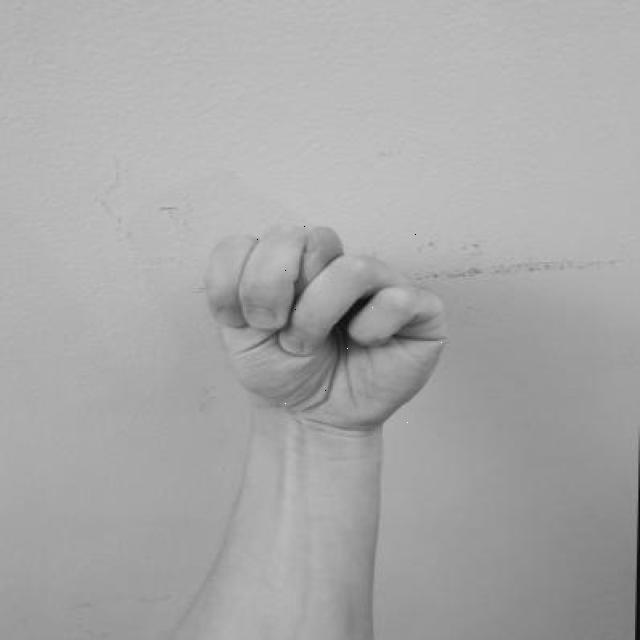N: (197, 219, 461, 434)
